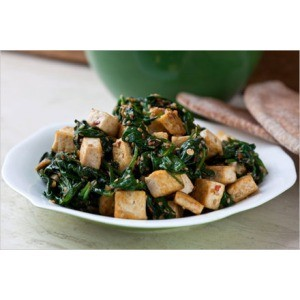tofu_brain food: (194, 170, 254, 203), (73, 136, 116, 172), (106, 193, 147, 218)
